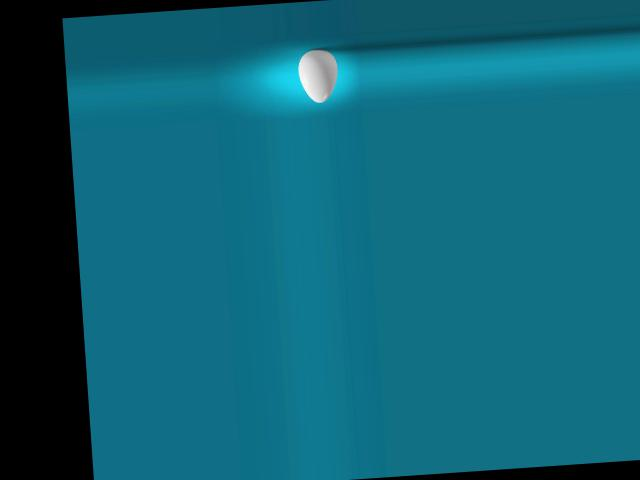egg: (297, 47, 340, 103)
